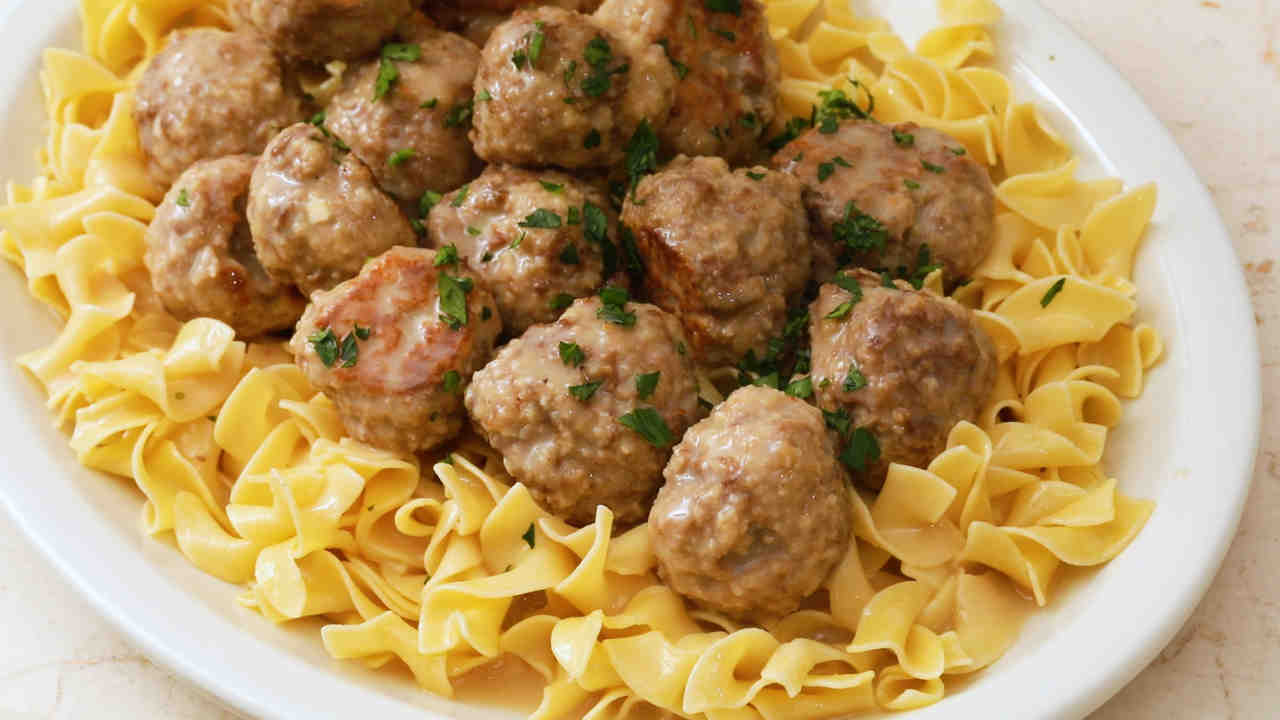meatballs: (197, 4, 959, 430)
plain spaghetti: (320, 475, 652, 688)
